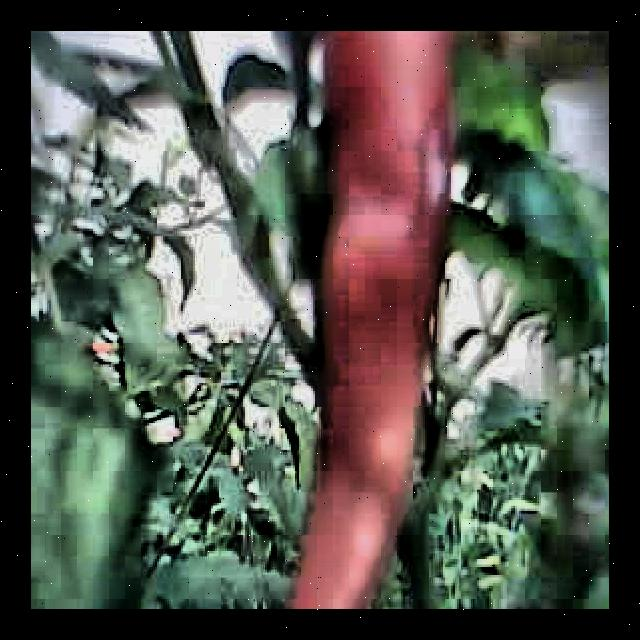Cabai: (304, 31, 433, 609)
